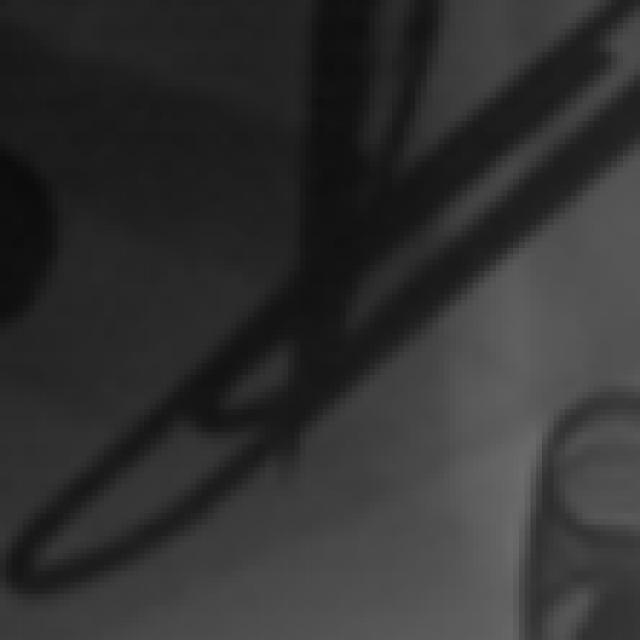GUN: (523, 371, 640, 640)
